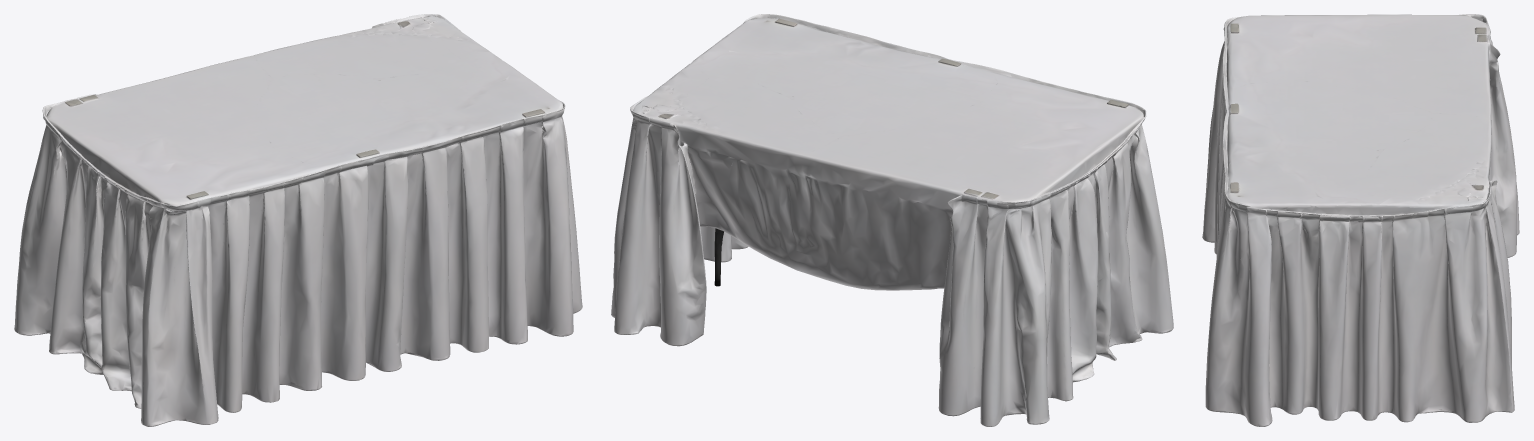
The picture shows the model from 3 angles, left to right: view 1: azimuth 30°, elevation 25°; view 2: azimuth 150°, elevation 25°; view 3: azimuth 270°, elevation 25°; orthographic projection. The views are drawn at different scales.
Parts seen in each view (by area): view 1: model; view 2: model; view 3: model.
Part boxes in pixels (x1,y1,x2,y2): model: [14, 14, 582, 426]; model: [611, 14, 1173, 426]; model: [1202, 14, 1519, 426].
Bounding box in the file's own units: 1.6 × 0.74 × 1.
1 material, 1 textured.
